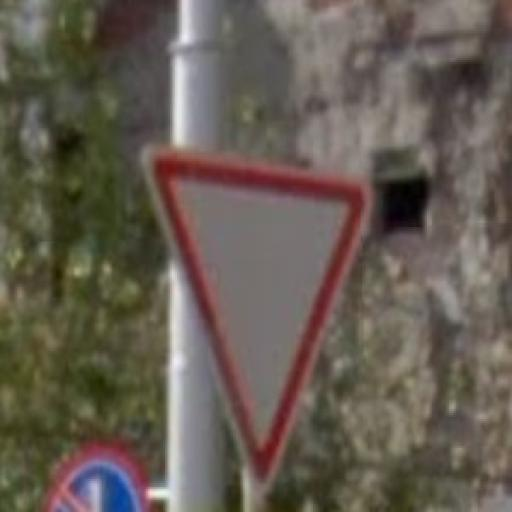traffic_sign: (136, 138, 379, 497)
